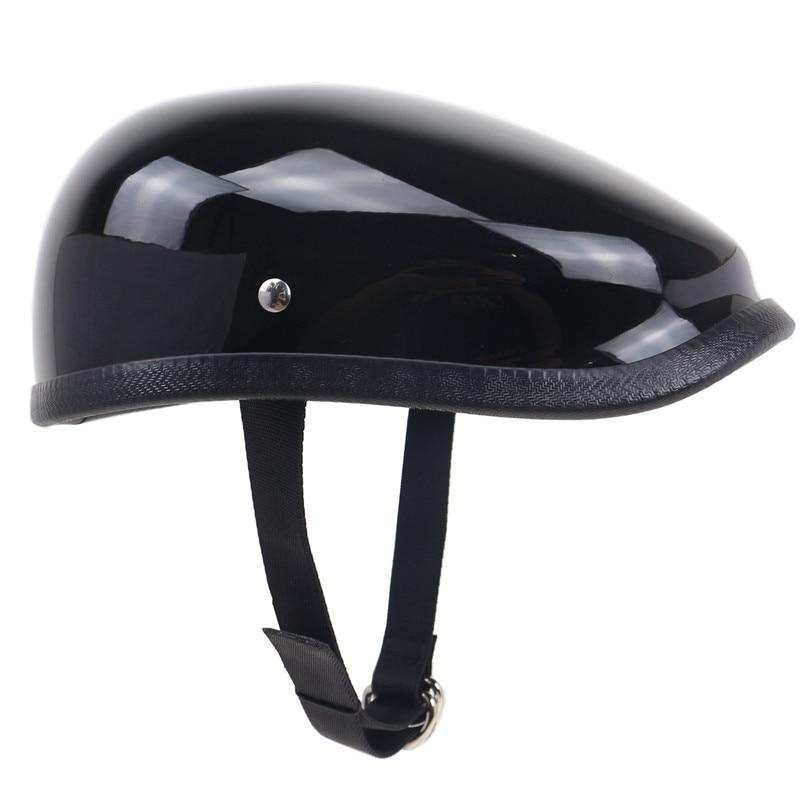with_helmet: (22, 73, 799, 436)
